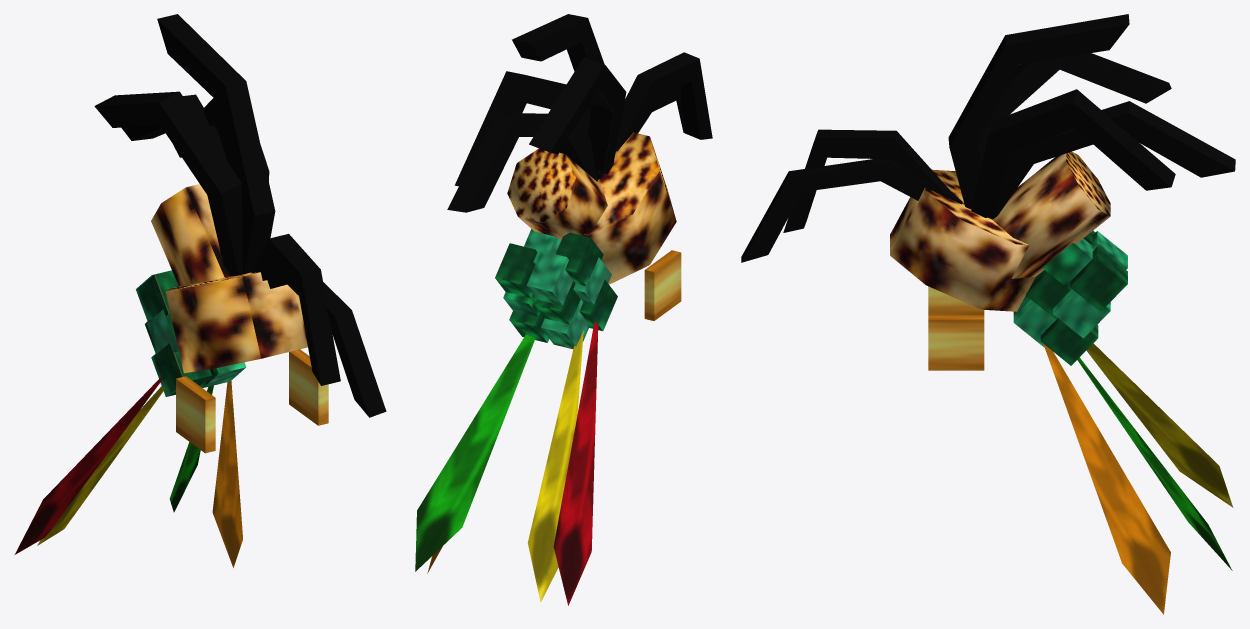
The picture shows the model from 3 angles, left to right: view 1: azimuth 30°, elevation 25°; view 2: azimuth 150°, elevation 25°; view 3: azimuth 270°, elevation 25°; orthographic projection. The views are drawn at different scales.
Parts seen in each view (by area): view 1: helmet_n_1_2; view 2: helmet_n_1_2; view 3: helmet_n_1_2.
Part boxes in pixels (x1,y1,x2,y2): helmet_n_1_2: [14, 14, 386, 567]; helmet_n_1_2: [415, 14, 712, 605]; helmet_n_1_2: [741, 14, 1235, 614].
Size of the model in its own units: 0.8369 by 1.91 by 2.37.
